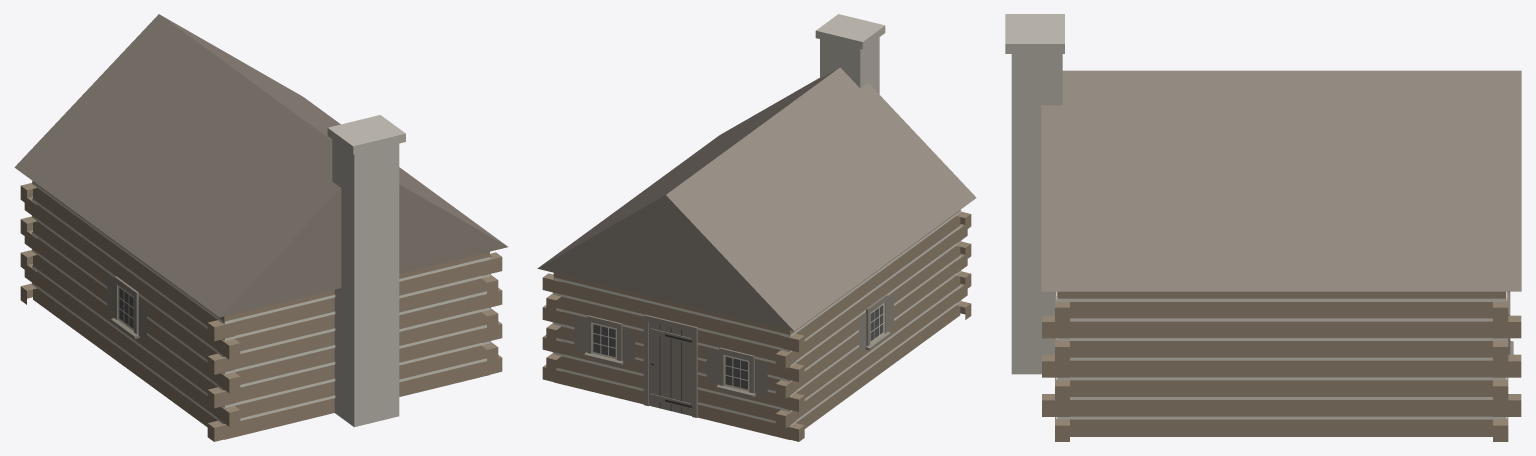
File: recon_1835_blk_south_water_dearborn_d1_05__inferred_1835.glb
3 views of the same model, side by side, from view 1: azimuth 30°, elevation 25°; view 2: azimuth 150°, elevation 25°; view 3: azimuth 270°, elevation 25° (orthographic). The views are drawn at different scales.
Visible parts, largest first — view 1: recon_1835_blk_south_water_dearborn_d1_05__inferred_1835; view 2: recon_1835_blk_south_water_dearborn_d1_05__inferred_1835; view 3: recon_1835_blk_south_water_dearborn_d1_05__inferred_1835.
Part boxes in pixels (box(x1,y1,x2,y2)): recon_1835_blk_south_water_dearborn_d1_05__inferred_1835: box(14, 14, 507, 441); recon_1835_blk_south_water_dearborn_d1_05__inferred_1835: box(537, 14, 976, 441); recon_1835_blk_south_water_dearborn_d1_05__inferred_1835: box(1005, 14, 1521, 441).
Size of the model in its own units: 6.14 by 5.75 by 8.11.
